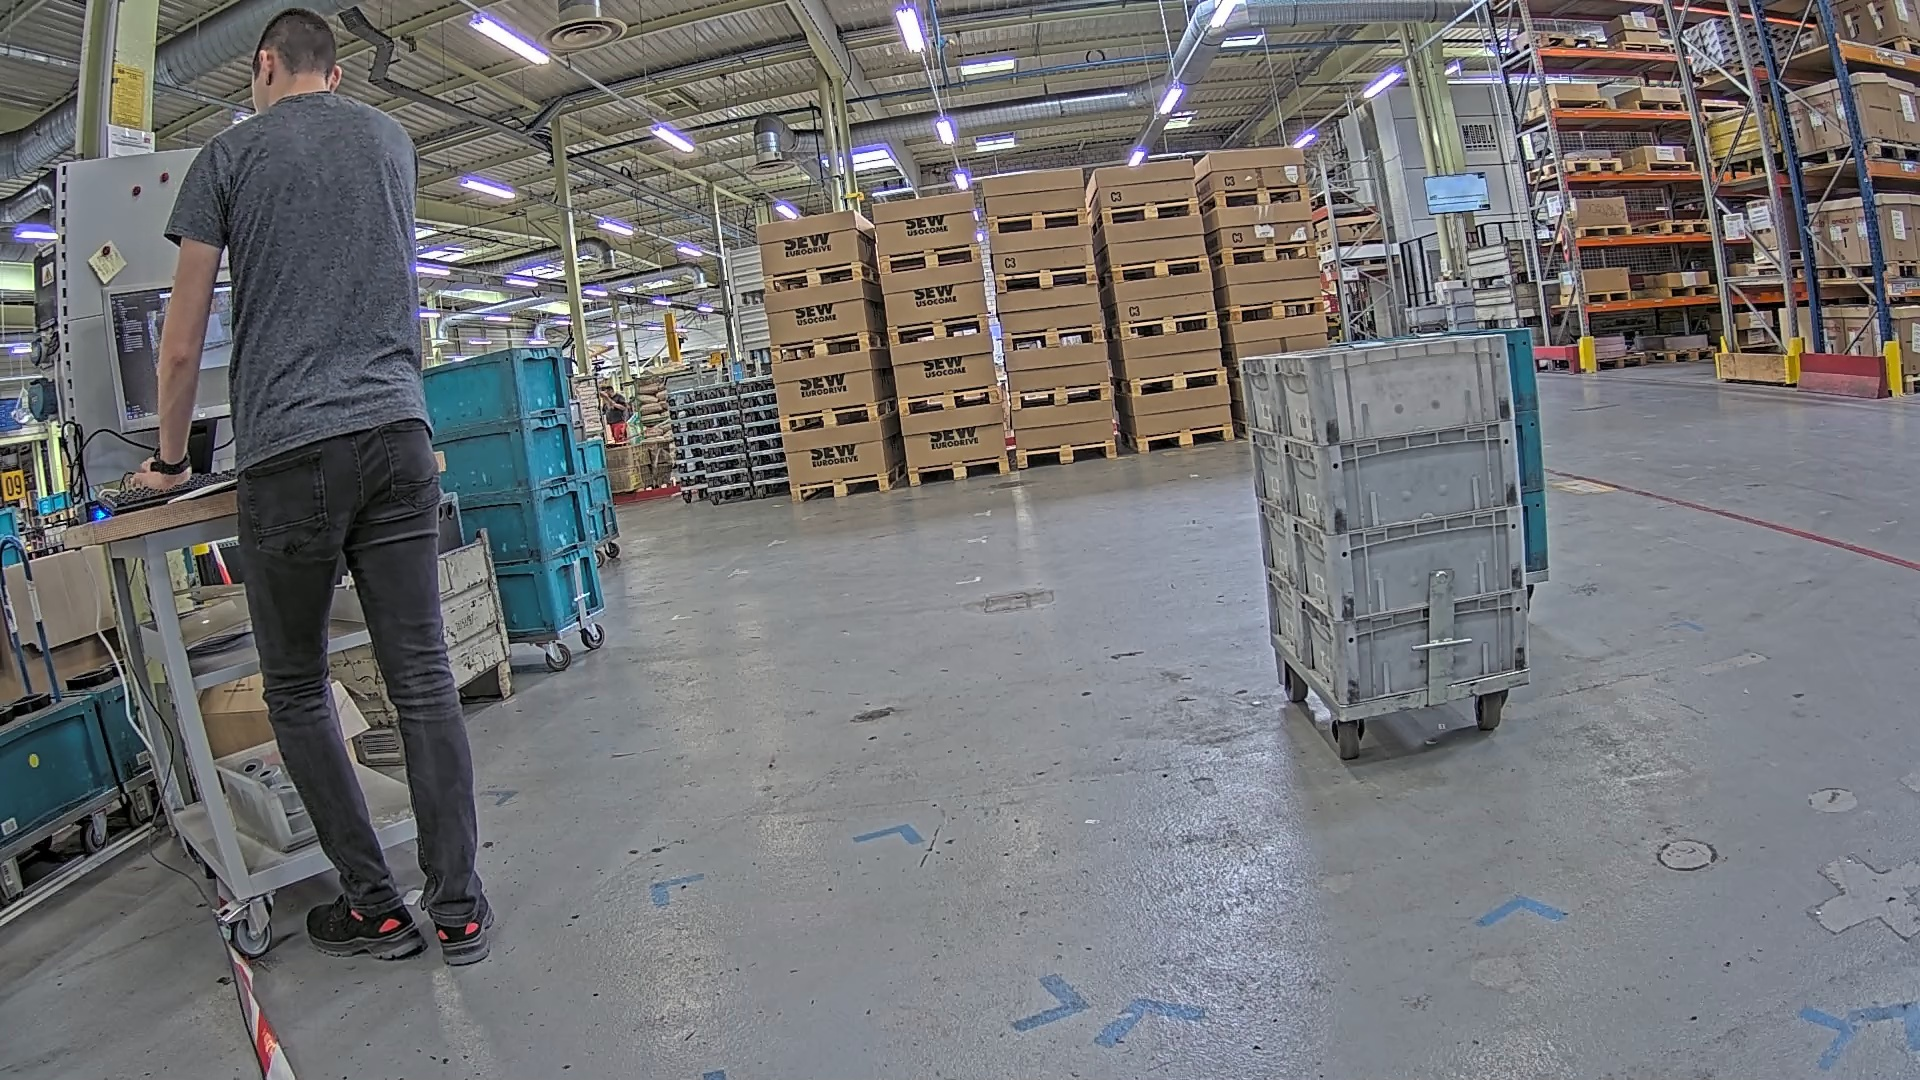8G: (1308, 332, 1531, 707)
B8: (1484, 322, 1551, 578)
